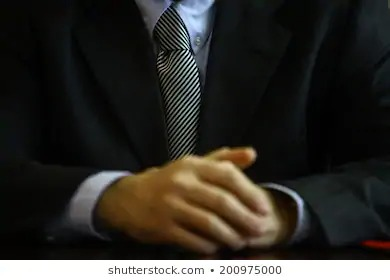F_tie: (135, 1, 215, 164)
